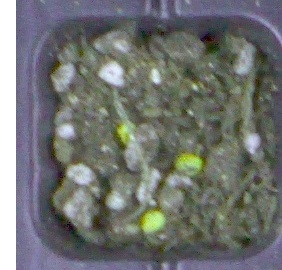chilli seed: (172, 151, 203, 173), (139, 209, 166, 233), (115, 122, 130, 144)
